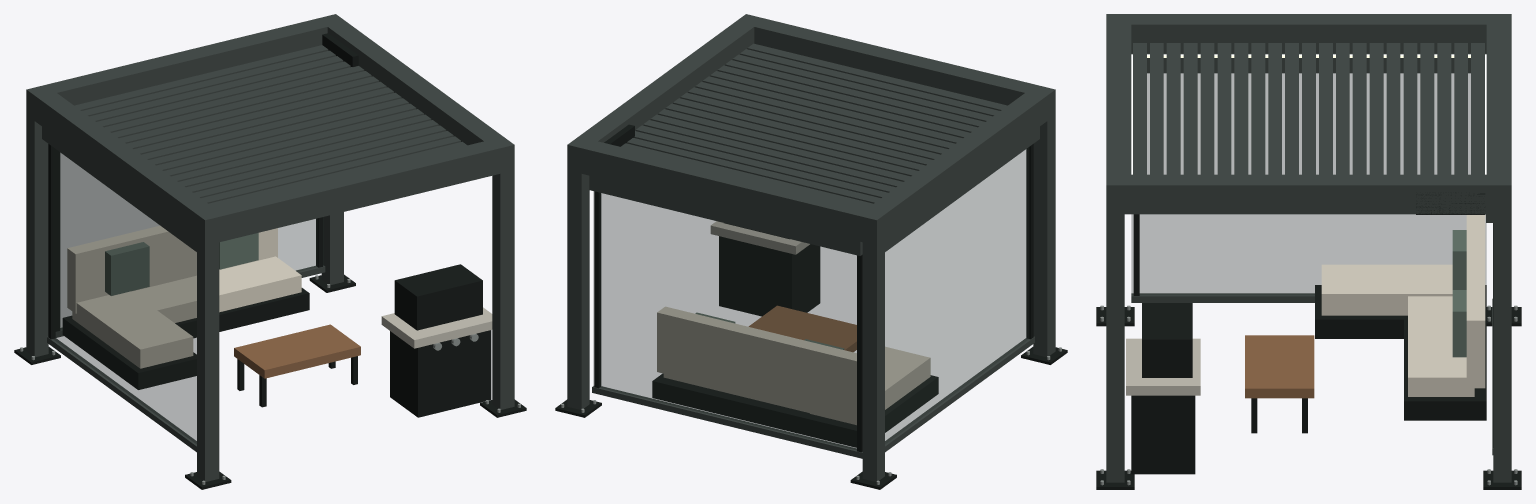
File: coordinatez-axis-10x10-carbon.glb
The picture shows the model from 3 angles, left to right: view 1: azimuth 30°, elevation 25°; view 2: azimuth 150°, elevation 25°; view 3: azimuth 270°, elevation 25°; orthographic projection. The views are drawn at different scales.
Visible parts, largest first — view 1: Left motorized wall, Structural post (×4), Front motor beam, Rear drainage beam, Left beam, Rear motorized wall, BBQ cabinet, Right beam, Sofa back, Chaise cushion, Sofa seat, BBQ hood (+30 smaller); view 2: Rear motorized wall, Left motorized wall, Structural post (×3), Sofa back, Rear drainage beam, Front motor beam, Left beam, BBQ cabinet, Right beam, Sofa base, Rear wall cassette, Rear wall guide (×2) (+28 smaller); view 3: Left motorized wall, Right beam, Left beam, Structural post (×2), Chaise cushion, BBQ cabinet, Sofa seat, Front motor beam, Rear drainage beam, Coffee table top, BBQ hood, Sofa back (+30 smaller).
Part boxes in pixels (x1,y1,x2,y2): Left motorized wall: (53, 147, 196, 443); Structural post (×4): (26, 115, 514, 481); Front motor beam: (194, 137, 514, 245); Rear drainage beam: (26, 14, 346, 122); Left beam: (26, 85, 224, 245); Rear motorized wall: (61, 154, 323, 328); BBQ cabinet: (390, 330, 491, 417); Right beam: (318, 17, 514, 174); Sofa back: (67, 226, 277, 313); Chaise cushion: (72, 291, 193, 368); Sofa seat: (132, 256, 301, 322); BBQ hood: (394, 264, 482, 330); Rear motorized wall: (593, 191, 856, 449); Left motorized wall: (885, 147, 1028, 443); Structural post (×3): (567, 115, 1055, 481); Sofa back: (657, 306, 856, 420); Rear drainage beam: (567, 136, 887, 244); Front motor beam: (735, 14, 1055, 122); Left beam: (857, 85, 1055, 245); BBQ cabinet: (719, 236, 820, 316); Right beam: (567, 15, 763, 174); Sofa base: (652, 373, 898, 447); Rear wall cassette: (589, 175, 862, 255); Rear wall guide (×2): (594, 191, 862, 452); Left motorized wall: (1131, 73, 1486, 294); Right beam: (1106, 174, 1511, 214); Left beam: (1106, 14, 1511, 53); Structural post (×2): (1106, 214, 1511, 482); Chaise cushion: (1321, 264, 1452, 315); BBQ cabinet: (1131, 395, 1195, 474); Sofa seat: (1408, 296, 1474, 396); Front motor beam: (1106, 14, 1131, 214); Rear drainage beam: (1486, 14, 1511, 214); Coffee table top: (1245, 335, 1314, 398); BBQ hood: (1142, 303, 1192, 377); Sofa back: (1466, 215, 1485, 388).
Size of the model in its own units: 3.2 by 2.49 by 3.2.
